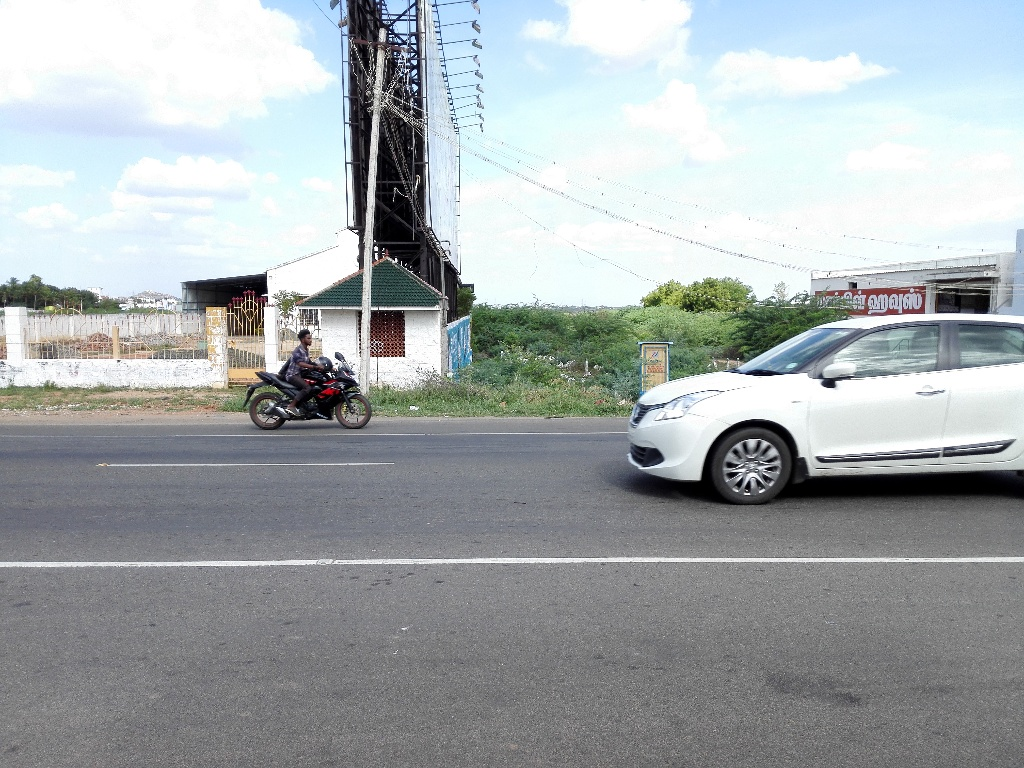biker: (231, 300, 393, 445)
nohelmet: (293, 321, 318, 358)
